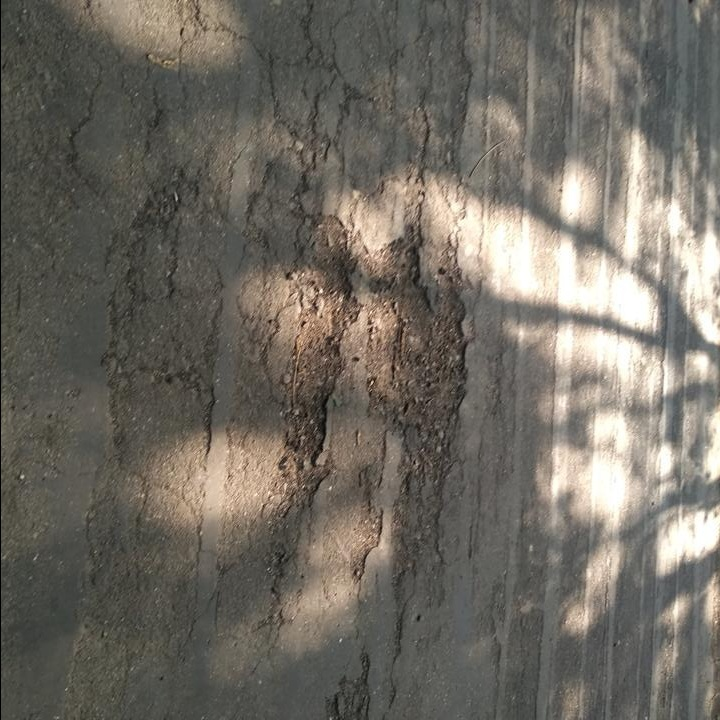pothole: (361, 224, 470, 487), (265, 209, 359, 508)
